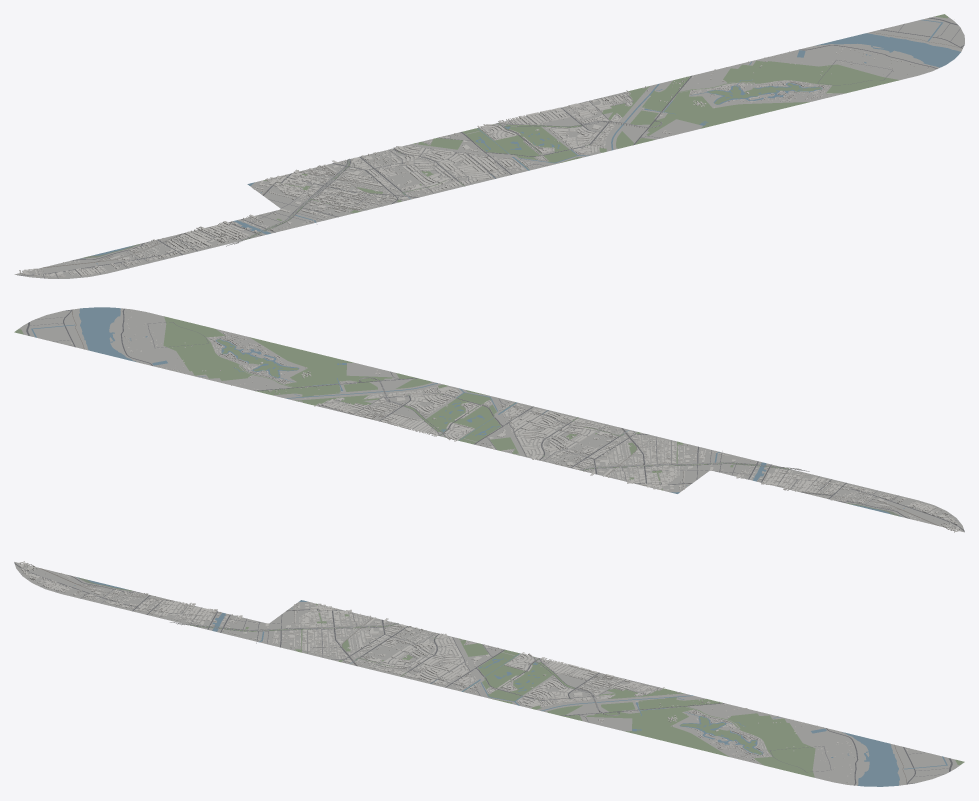
Rendered from city_4.glb.
The picture shows the model from 3 angles, top to bottom: view 1: azimuth 30°, elevation 25°; view 2: azimuth 150°, elevation 25°; view 3: azimuth 330°, elevation 25°; orthographic projection. The views are drawn at different scales.
Visible parts, largest first — view 1: Ground_15_13, Ground_14_13, Ground_13_13, Ground_12_13, Ground_11_13, Ground_8_13, Tile_6_13-col, Ground_9_13, Ground_10_13, Tile_7_13-col, Ground_7_13, Ground_6_13 (+27 smaller); view 2: Ground_14_13, Ground_15_13, Ground_13_13, Ground_12_13, Ground_11_13, Ground_8_13, Ground_9_13, Ground_6_13, Tile_6_13-col, Ground_10_13, Ground_7_13, Ground_5_13 (+27 smaller); view 3: Ground_14_13, Ground_15_13, Ground_13_13, Ground_12_13, Ground_11_13, Ground_8_13, Ground_9_13, Tile_6_13-col, Ground_6_13, Ground_10_13, Ground_7_13, Ground_5_13 (+27 smaller).
Boxes of the visible parts, <box> form: Ground_15_13: <box>842,24,934,63</box>; Ground_14_13: <box>782,39,875,78</box>; Ground_13_13: <box>723,53,816,93</box>; Ground_12_13: <box>664,68,756,107</box>; Ground_11_13: <box>604,82,697,122</box>; Ground_8_13: <box>426,127,518,165</box>; Tile_6_13-col: <box>306,155,398,193</box>; Ground_9_13: <box>489,112,576,151</box>; Ground_10_13: <box>546,97,637,135</box>; Tile_7_13-col: <box>368,140,457,178</box>; Ground_7_13: <box>366,140,459,180</box>; Ground_6_13: <box>307,155,399,194</box>; Ground_14_13: <box>112,332,200,369</box>; Ground_15_13: <box>55,318,143,355</box>; Ground_13_13: <box>169,346,256,383</box>; Ground_12_13: <box>225,360,313,397</box>; Ground_11_13: <box>282,374,370,411</box>; Ground_8_13: <box>453,415,539,452</box>; Ground_9_13: <box>396,401,483,438</box>; Ground_6_13: <box>565,442,653,480</box>; Tile_6_13-col: <box>566,444,652,479</box>; Ground_10_13: <box>338,387,425,423</box>; Ground_7_13: <box>508,429,596,466</box>; Ground_5_13: <box>621,456,709,493</box>; Ground_14_13: <box>778,724,866,761</box>; Ground_15_13: <box>835,738,923,775</box>; Ground_13_13: <box>721,710,809,747</box>; Ground_12_13: <box>665,696,753,733</box>; Ground_11_13: <box>608,683,696,720</box>; Ground_8_13: <box>439,641,525,678</box>; Ground_9_13: <box>495,655,582,692</box>; Tile_6_13-col: <box>326,613,412,649</box>; Ground_6_13: <box>325,614,413,651</box>; Ground_10_13: <box>553,669,640,706</box>; Ground_7_13: <box>382,627,470,665</box>; Ground_5_13: <box>269,600,357,637</box>.
Size of what is drawn, in the model's own units: 16658 by 36.1 by 1834.
